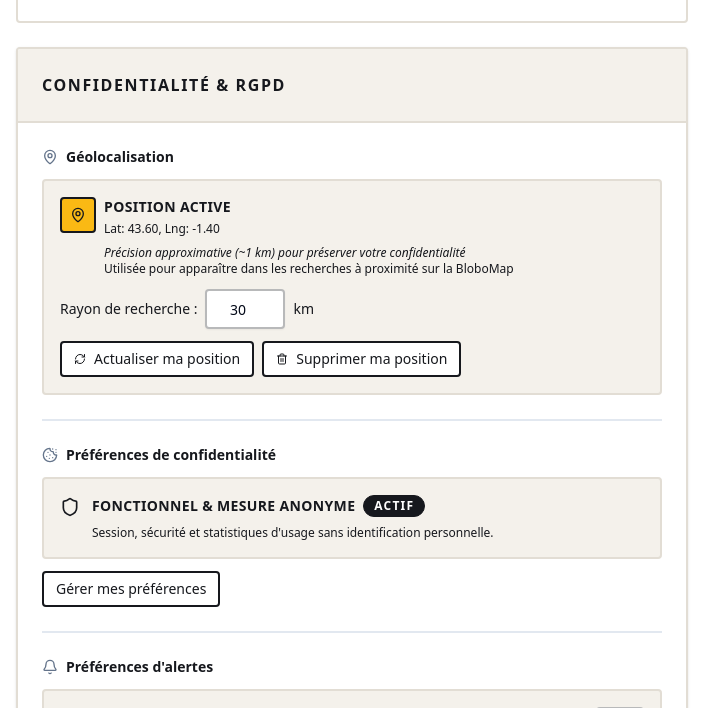
Test: Géolocalisation — position déjà enregistrée › Actualiser → GPS refusé → affiche message permission refusée
This screenshot has width=705, height=708.
(page scrolled)
Click the button "Actualiser ma position".
click(157, 359)  # box [60,341,254,377]
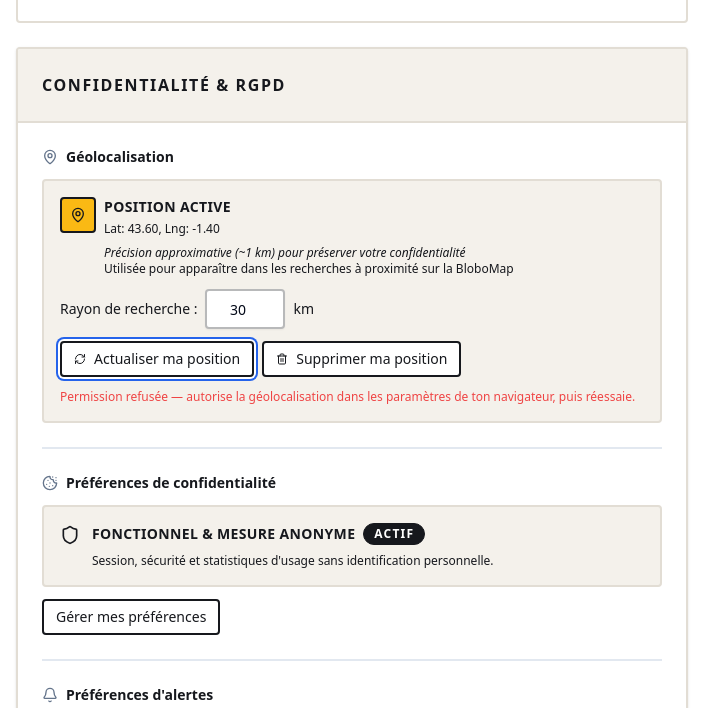
Expected: the text "Permission refusée" is shown, [60,388,635,405]
